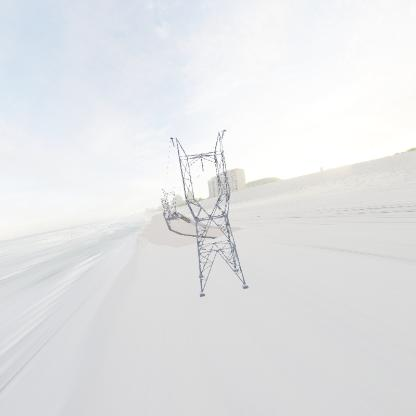tower: (167, 126, 251, 299)
